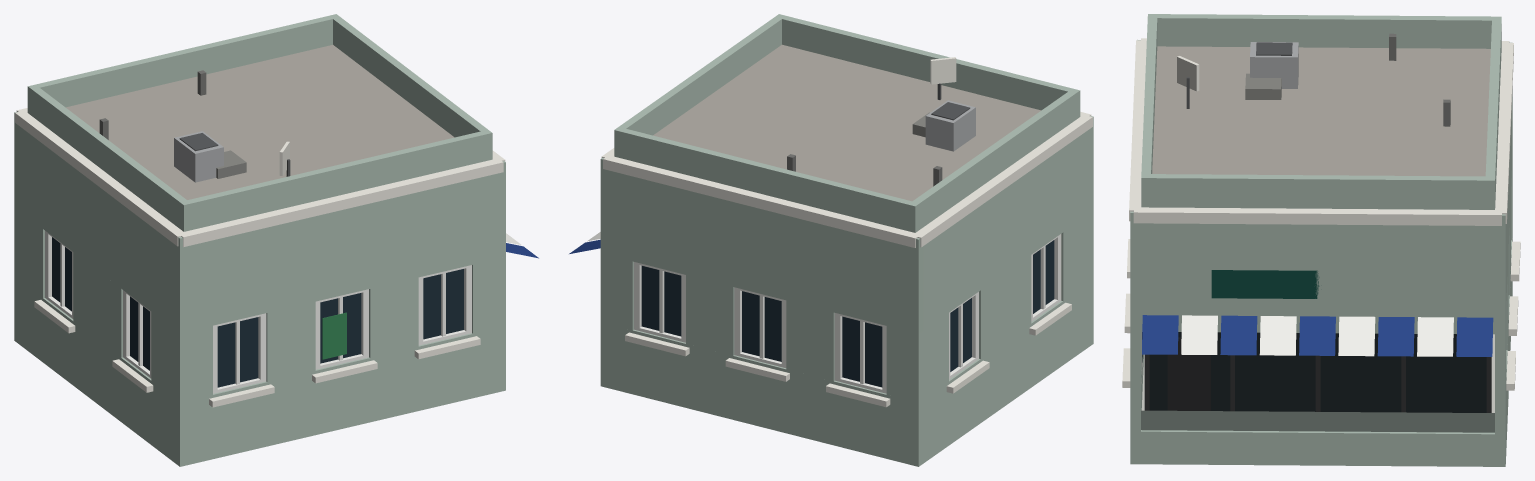
3 views of the same model, side by side, from view 1: azimuth 30°, elevation 25°; view 2: azimuth 150°, elevation 25°; view 3: azimuth 270°, elevation 25° (orthographic). The views are drawn at different scales.
Visible parts, largest first — view 1: b2119_opaque, b2119_glass; view 2: b2119_opaque, b2119_glass; view 3: b2119_opaque, b2119_glass.
Boxes of the visible parts, left/top/right/bottom form: b2119_opaque: left=14, top=14, right=538, bottom=466; b2119_glass: left=52, top=237, right=463, bottom=387; b2119_opaque: left=569, top=14, right=1093, bottom=466; b2119_glass: left=641, top=240, right=1054, bottom=387; b2119_opaque: left=1122, top=14, right=1520, bottom=466; b2119_glass: left=1142, top=332, right=1486, bottom=412.
Bounding box in the file's own units: 3935 × 2748 × 3315.
